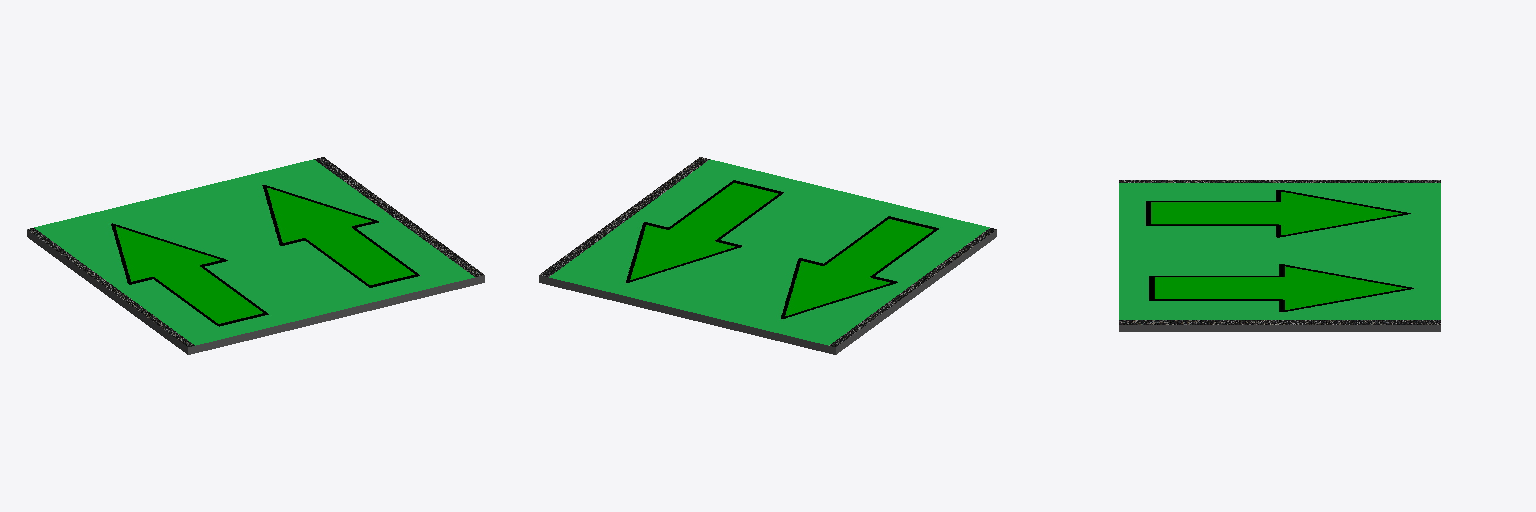
The picture shows the model from 3 angles: view 1: azimuth 30°, elevation 25°; view 2: azimuth 150°, elevation 25°; view 3: azimuth 270°, elevation 25°; orthographic projection.
Parts seen in each view (by area): view 1: pCube1; view 2: pCube1; view 3: pCube1.
Part boxes in pixels (x1,y1,x2,y2): pCube1: (27, 157, 484, 354); pCube1: (539, 157, 996, 354); pCube1: (1119, 180, 1440, 331).
Bounding box in the file's own units: 20 × 0.5 × 18.84.
3 materials, 2 textured.